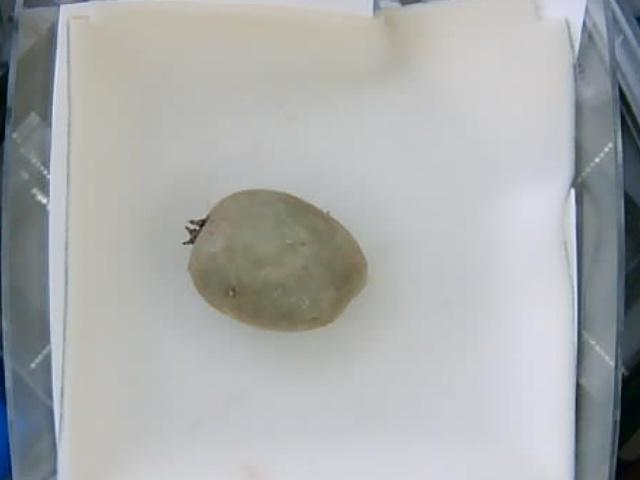Potato: (184, 185, 369, 336)
